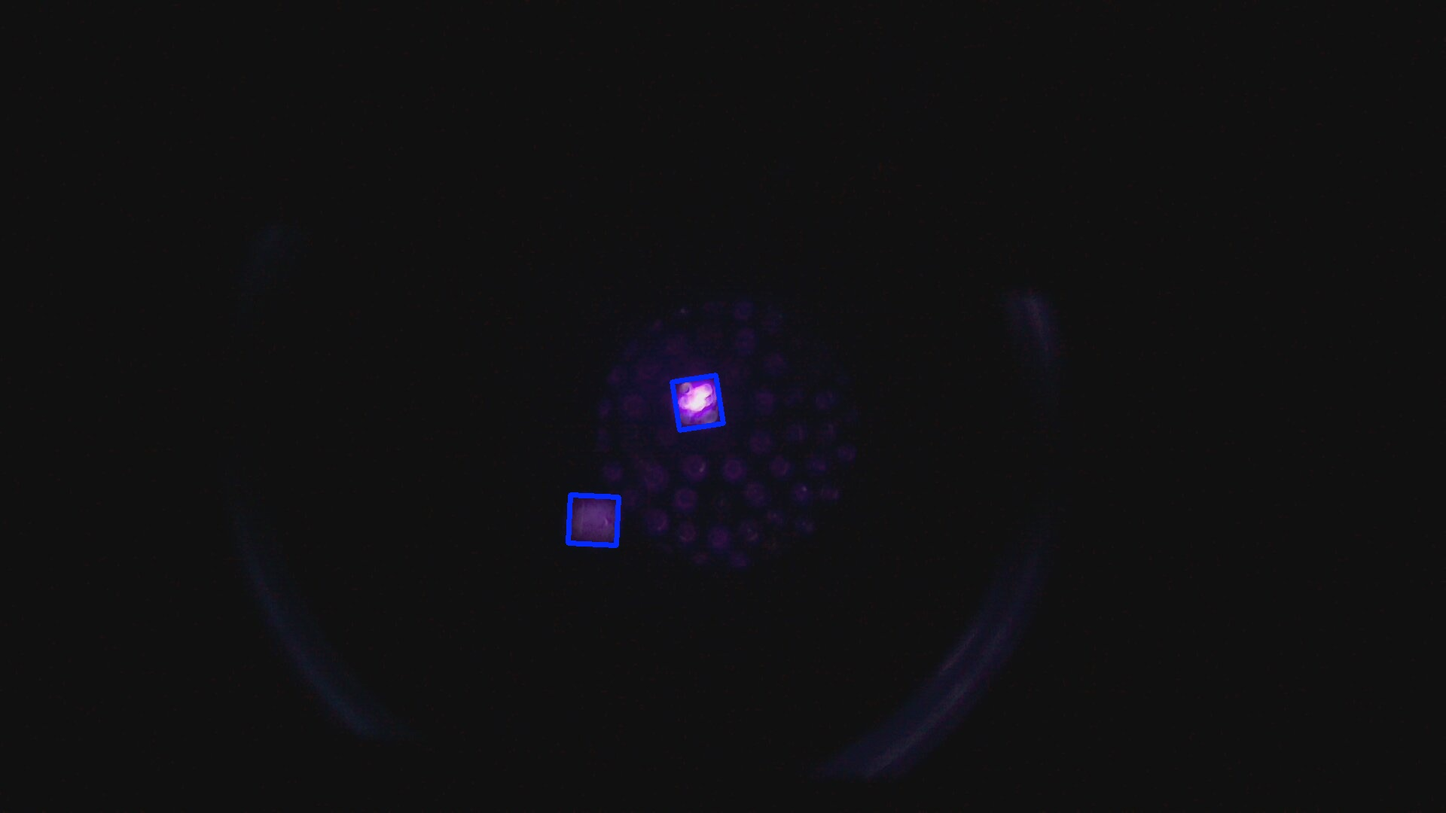plastic: (668, 372, 727, 434), (568, 495, 619, 545)
